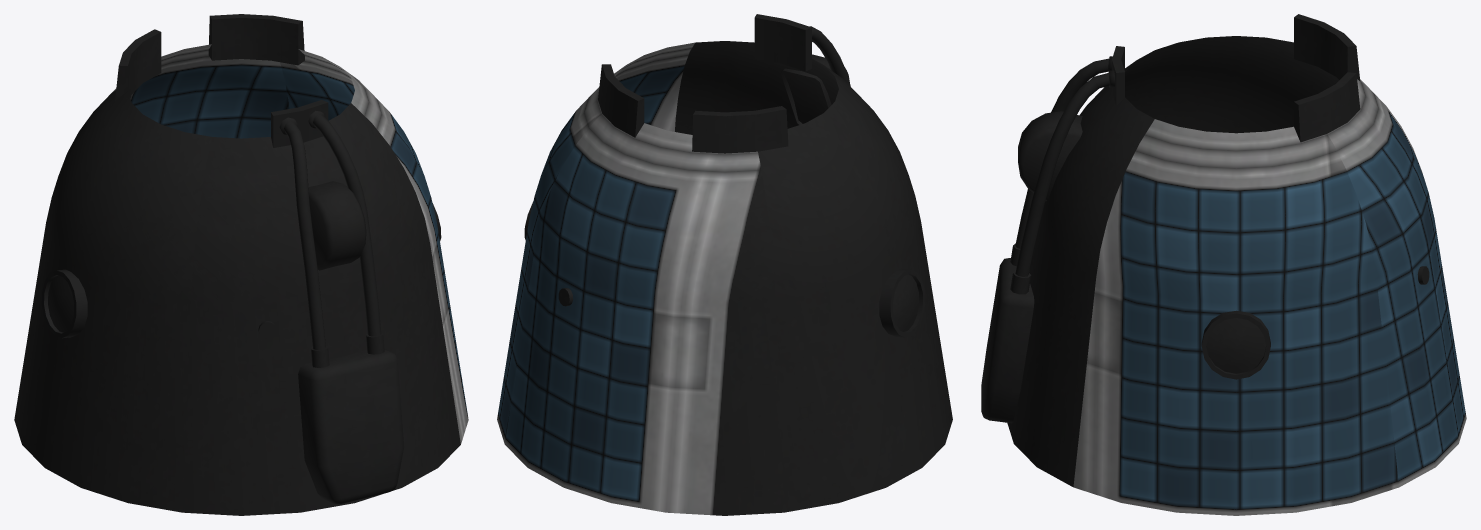
3 views of the same model, side by side, from view 1: azimuth 30°, elevation 25°; view 2: azimuth 150°, elevation 25°; view 3: azimuth 270°, elevation 25° (orthographic).
Visible parts, largest first — view 1: 1, jettison, windows; view 2: 1, jettison, windows; view 3: 1, jettison, windows.
Boxes of the visible parts, x1,y1,x2,y2 form: 1: (14, 14, 468, 515); jettison: (271, 100, 404, 504); windows: (48, 275, 73, 332); 1: (497, 41, 952, 515); jettison: (754, 14, 850, 86); windows: (893, 274, 919, 331); 1: (1007, 14, 1466, 515); jettison: (981, 46, 1124, 423); windows: (1206, 318, 1265, 373).
Size of the model in its own units: 1.25 by 1.15 by 1.32.
